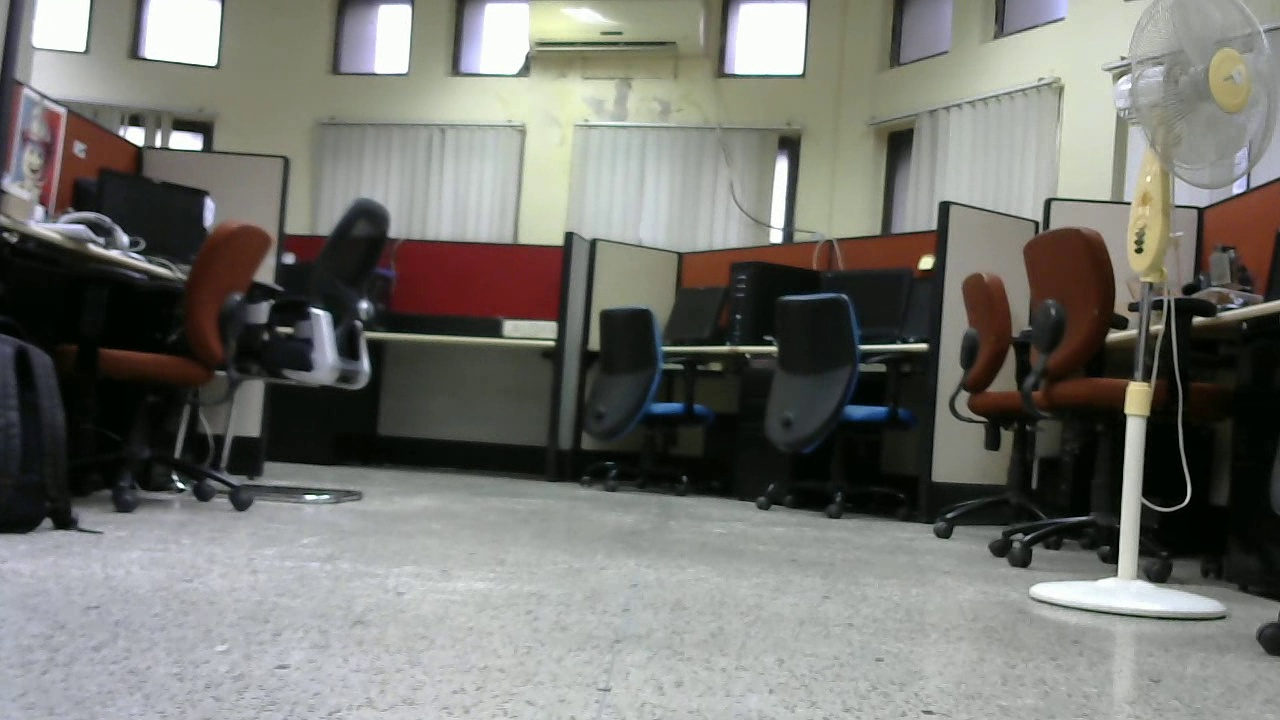chair: (1009, 224, 1179, 561), (71, 216, 257, 505), (252, 198, 398, 511), (750, 288, 915, 519), (938, 269, 1066, 544), (577, 305, 725, 506)
